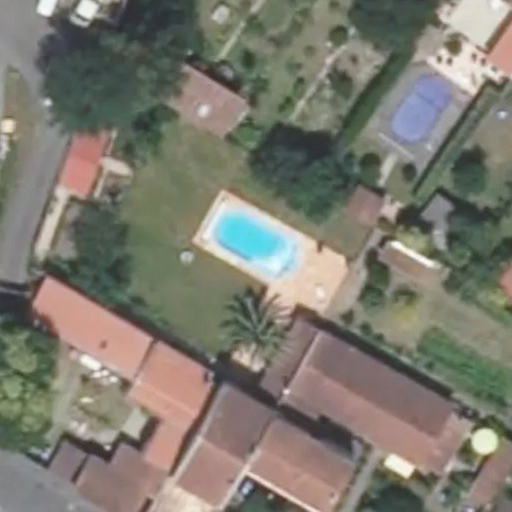pool: (207, 237, 309, 247)
